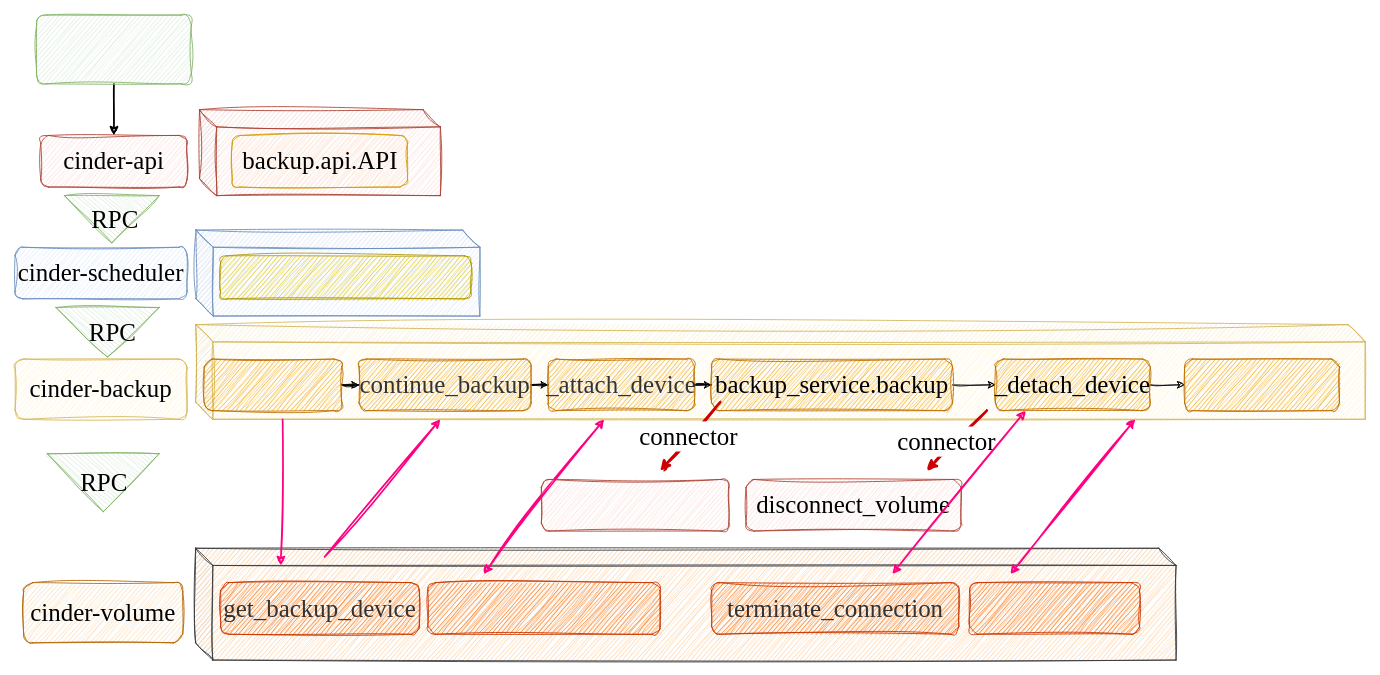
Some shapes in this 1380 by 675 pixel diagram are drawn without their labels. Here are the shapes that lost their labels. From the top down, the centre of each, then its label:
At point 113,49: "Client".
At point 345,277: "driver.get_backup_host".
At point 272,384: "_start_backup".
At point 1261,384: "_finish_backup".
At point 635,505: "_connect_device".
At point 543,608: "initialize_connection".
At point 1054,608: "remove_export".
